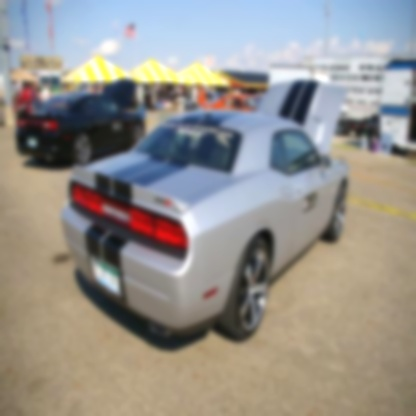Vehicle: (63, 82, 350, 342)
